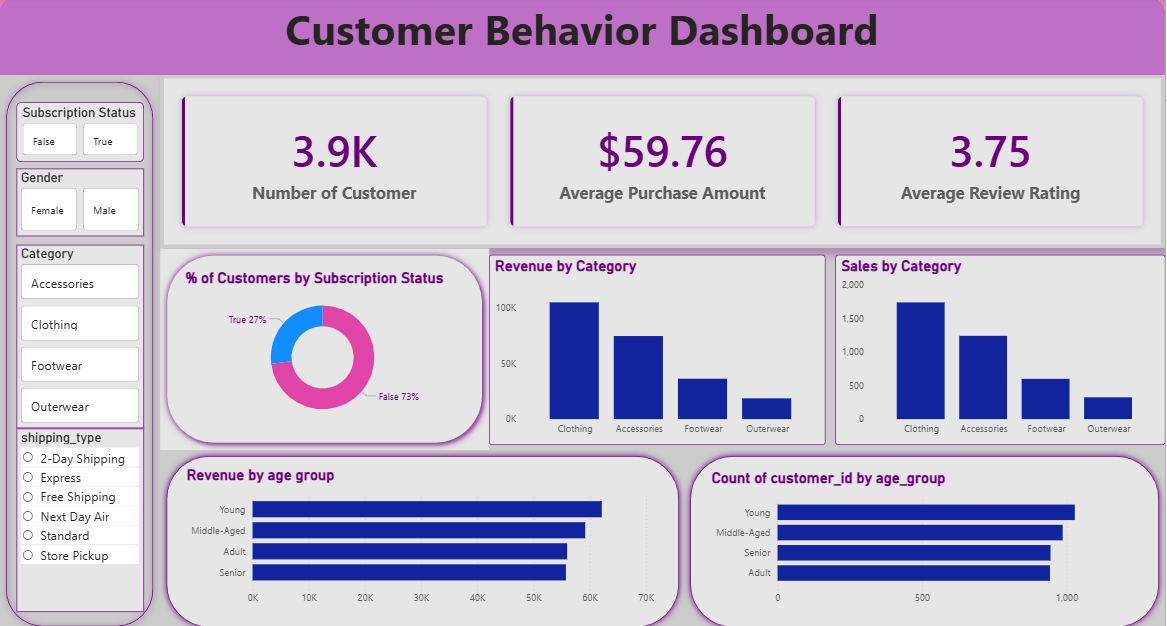

This screenshot's page, from the dashboard's own definition file:
{"tool":"powerbi","page":{"name":"Page 1","canvas":[1500,820],"ordinal":0},"visuals":[{"type":"cardVisual","fields":{"Data":["customers.Number of Customer","customers.Avergae Purchase Amount","customers.Average Review Rating"]},"box":[207.4,101.3,1292.9,223.5],"z":0},{"type":"shape","box":[0,0,1500.3,101.3],"z":1000},{"type":"textbox","box":[0,0,1500.3,101.3],"z":2000},{"type":"shape","box":[207.4,324.8,422.9,258.9],"z":3000},{"type":"donutChart","title":"% of Customers by Subscription Status","fields":{"Category":["customers.subscription_status"],"Y":["CountNonNull(customers.customer_id)"]},"box":[234.8,352.2,363.4,204.2],"z":4000},{"type":"clusteredColumnChart","title":"Revenue by Category","fields":{"Y":["Sum(customers.purchase_amount)"],"Category":["customers.category"]},"box":[630.4,332.9,432.6,244.4],"z":5000},{"type":"clusteredColumnChart","title":"Sales by Category","fields":{"Y":["CountNonNull(customers.customer_id)"],"Category":["customers.category"]},"box":[1075.8,332.9,424.5,244.4],"z":6000},{"type":"shape","box":[0,101.3,207.4,718.8],"z":7000},{"type":"advancedSlicerVisual","title":"Subscription Status","fields":{"Values":["customers.subscription_status"]},"box":[22.5,136.7,164,77.2],"z":8000},{"type":"advancedSlicerVisual","fields":{"Values":["customers.gender"]},"box":[22.5,221.9,164,86.8],"z":9000},{"type":"advancedSlicerVisual","fields":{"Values":["customers.category"]},"box":[22.5,320,164,236.4],"z":10000},{"type":"listSlicer","fields":{"Values":["customers.shipping_type"]},"box":[22.5,556.4,164,236.4],"z":11000},{"type":"shape","box":[207.4,583.7,675.4,236.4],"z":12000},{"type":"clusteredBarChart","title":"Revenue by age group","fields":{"Y":["Sum(customers.purchase_amount)"],"Category":["customers.age_group"]},"box":[236.4,604.6,611.1,188.1],"z":13000},{"type":"shape","box":[881.2,583.7,619.1,236.4],"z":14000},{"type":"clusteredBarChart","fields":{"Y":["CountNonNull(customers.customer_id)"],"Category":["customers.age_group"]},"box":[911.8,609.5,556.4,183.3],"z":15000}]}

Visuals, with their boxes in screenshot pixels (x1, y1, x2, y2), scaled from the page's 1500x820 canvas onto the 1167x626 screenshot:
cardVisual - customers.Number of Customer x customers.Avergae Purchase Amount: l=161, t=77, r=1166, b=248
shape: l=0, t=0, r=1166, b=77
textbox: l=0, t=0, r=1166, b=77
shape: l=161, t=248, r=490, b=446
"% of Customers by Subscription Status" donutChart: l=183, t=269, r=465, b=425
"Revenue by Category" clusteredColumnChart: l=490, t=254, r=827, b=441
"Sales by Category" clusteredColumnChart: l=837, t=254, r=1166, b=441
shape: l=0, t=77, r=161, b=625
"Subscription Status" advancedSlicerVisual: l=18, t=104, r=145, b=163
advancedSlicerVisual - customers.gender: l=18, t=169, r=145, b=236
advancedSlicerVisual - customers.category: l=18, t=244, r=145, b=425
listSlicer - customers.shipping_type: l=18, t=425, r=145, b=605
shape: l=161, t=446, r=687, b=625
"Revenue by age group" clusteredBarChart: l=184, t=462, r=659, b=605
shape: l=686, t=446, r=1166, b=625
clusteredBarChart - CountNonNull(customers.customer_id) x customers.age_group: l=709, t=465, r=1142, b=605
